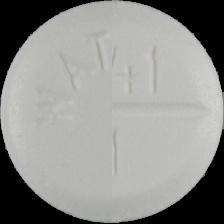10544-244: (0, 0, 224, 224)
